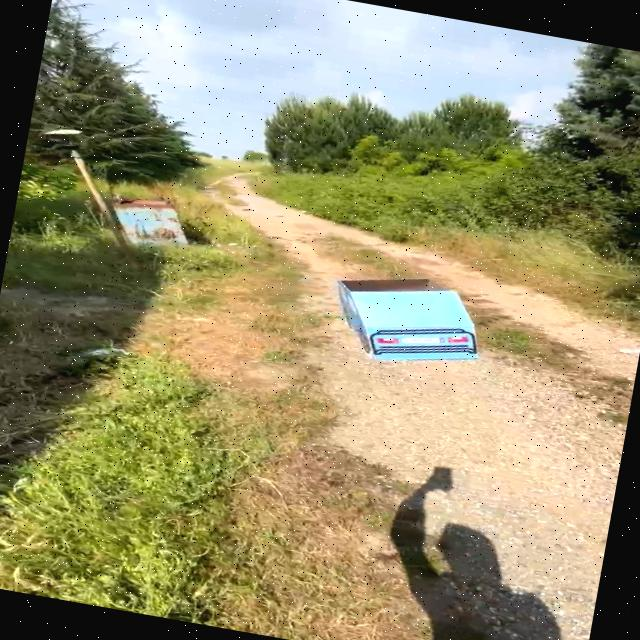blue_car: (313, 256, 503, 391)
